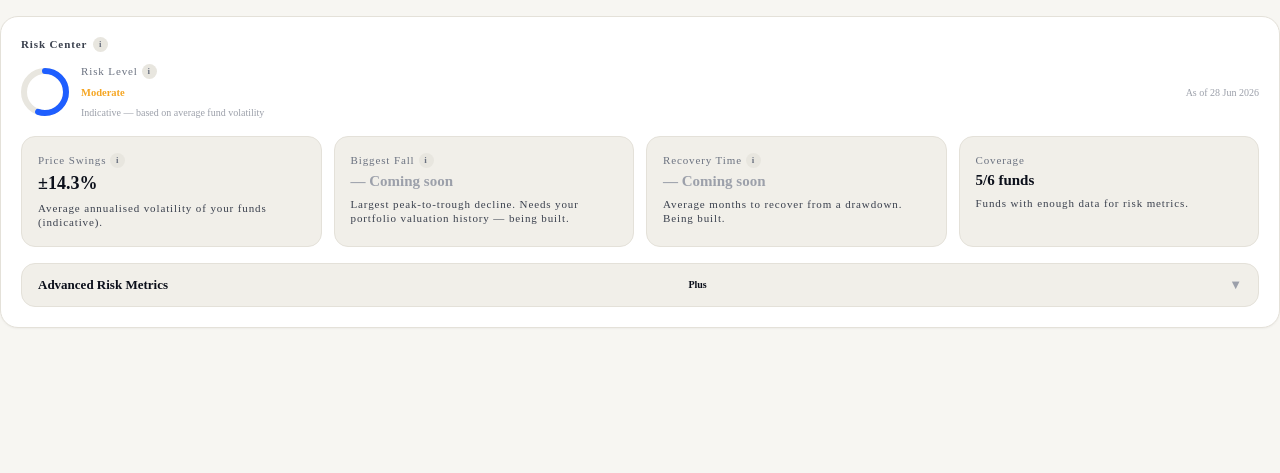
Test: RiskSection › advanced panel shows upgrade copy when 402
Click the button "Advanced Risk Metrics Plus ▼".
click(103, 284)  # box x1=21 y1=263 x2=1259 y2=307
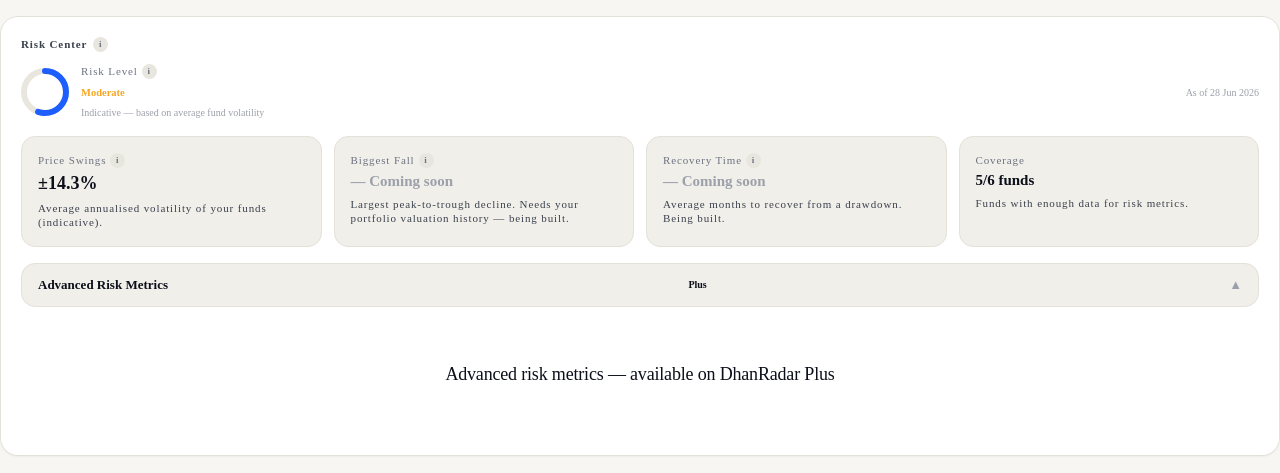
Now the text "Advanced risk metrics — available on DhanRadar Plus" is shown, box x1=445 y1=363 x2=835 y2=387
